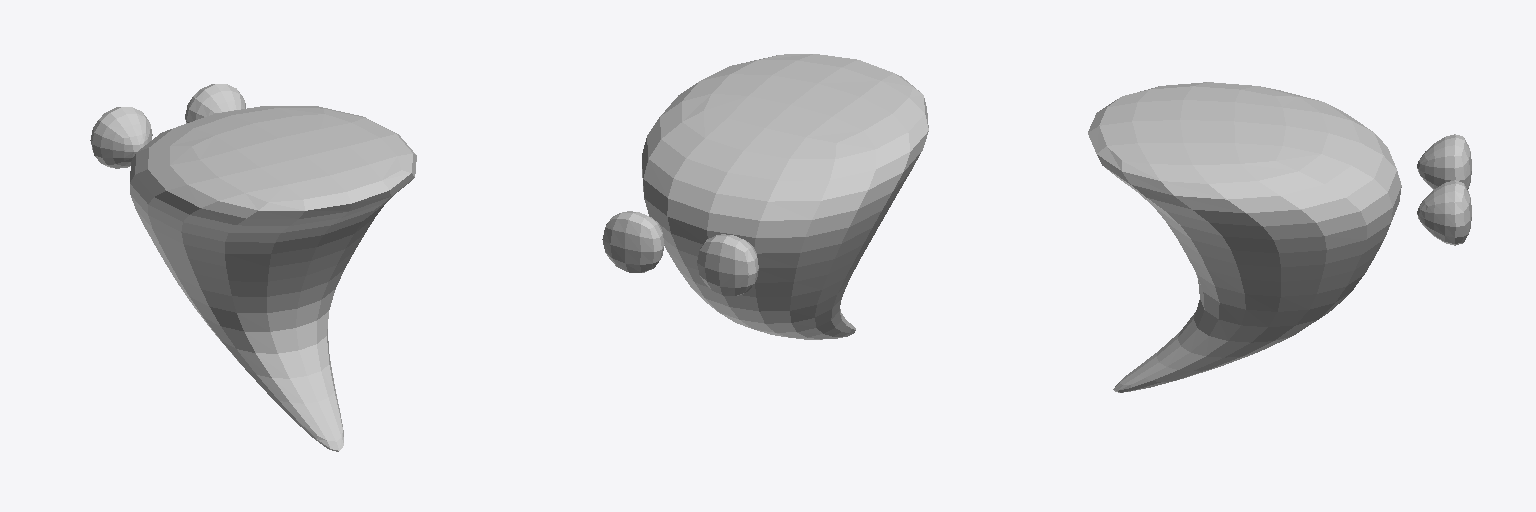
Rendered from E4_ghost_checker.obj.
The picture shows the model from 3 angles: view 1: azimuth 30°, elevation 25°; view 2: azimuth 150°, elevation 25°; view 3: azimuth 270°, elevation 25°; orthographic projection.
Visible parts, largest first — view 1: Cube, Cube.001; view 2: Cube, Cube.001; view 3: Cube, Cube.001.
Part boxes in pixels (bbox=[...]): Cube: bbox=[130, 106, 416, 451]; Cube.001: bbox=[90, 84, 245, 168]; Cube: bbox=[642, 54, 928, 339]; Cube.001: bbox=[602, 211, 758, 295]; Cube: bbox=[1088, 82, 1401, 392]; Cube.001: bbox=[1417, 134, 1471, 245].
Bounding box in the file's own units: 1.79 × 1.96 × 2.51.